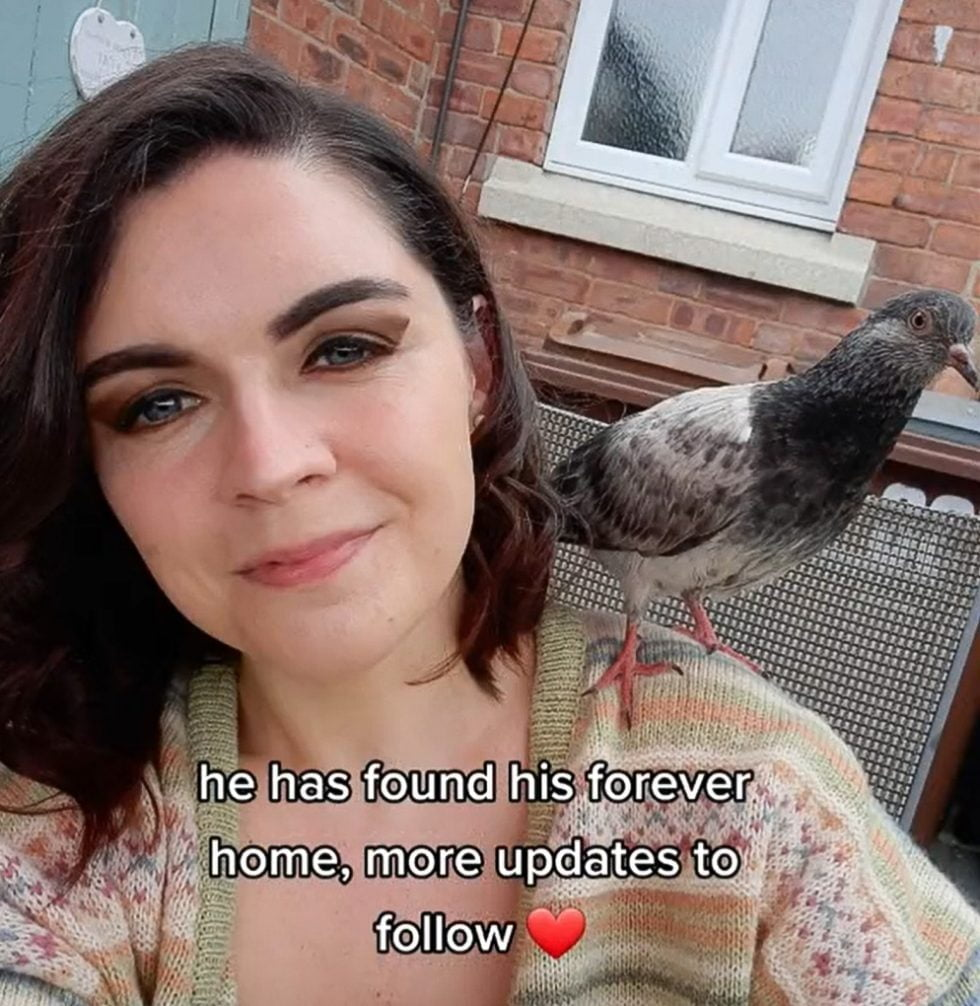Flying Rat: (543, 255, 966, 705)
